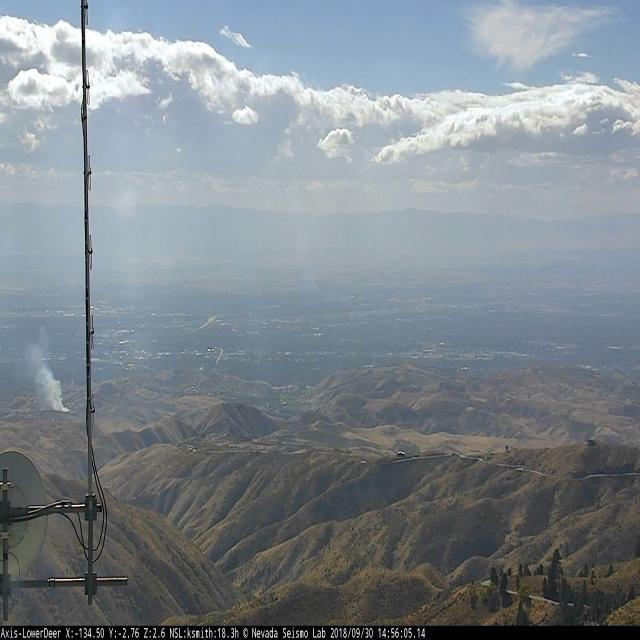smoke: (28, 347, 71, 414)
